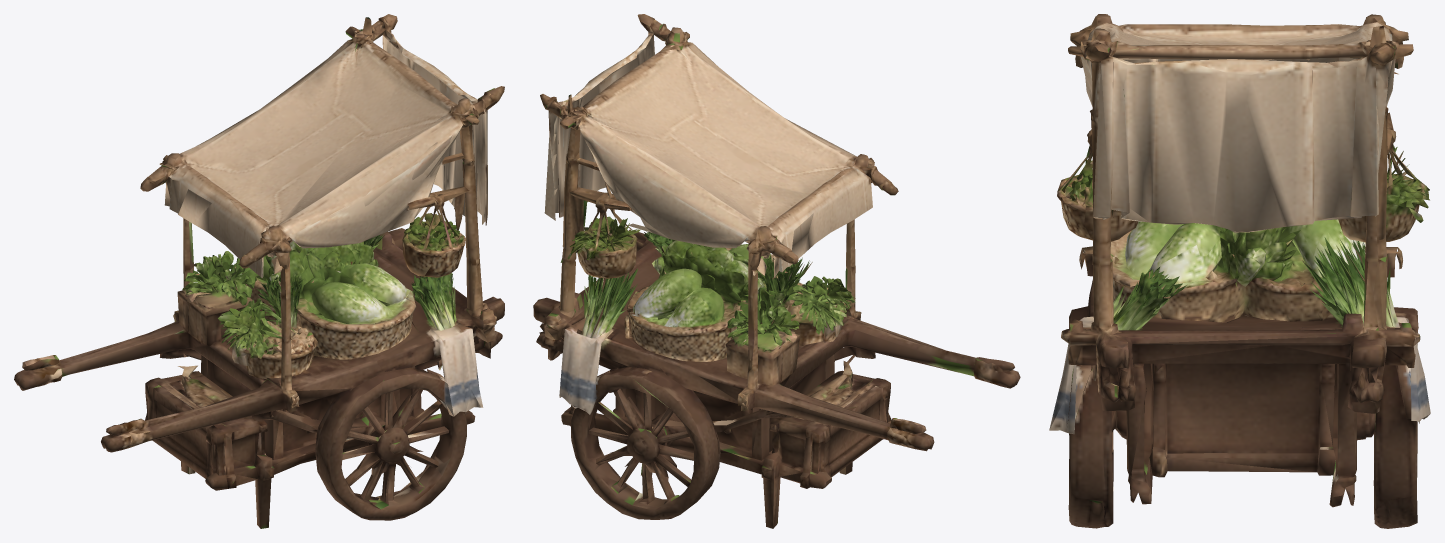
File: 01_Vegetable_Pushcart_LOD1.fbx
3 views of the same model, side by side, from view 1: azimuth 30°, elevation 25°; view 2: azimuth 150°, elevation 25°; view 3: azimuth 270°, elevation 25° (orthographic). The views are drawn at different scales.
Visible parts, largest first — view 1: 01_Vegetable_Pushcart_L1; view 2: 01_Vegetable_Pushcart_L1; view 3: 01_Vegetable_Pushcart_L1.
Boxes of the visible parts, box(x1,y1,x2,y2) form: 01_Vegetable_Pushcart_L1: box(14, 14, 504, 528); 01_Vegetable_Pushcart_L1: box(533, 14, 1020, 528); 01_Vegetable_Pushcart_L1: box(1049, 14, 1430, 528).
Bounding box in the file's own units: 2.29 × 2.2 × 1.4.
